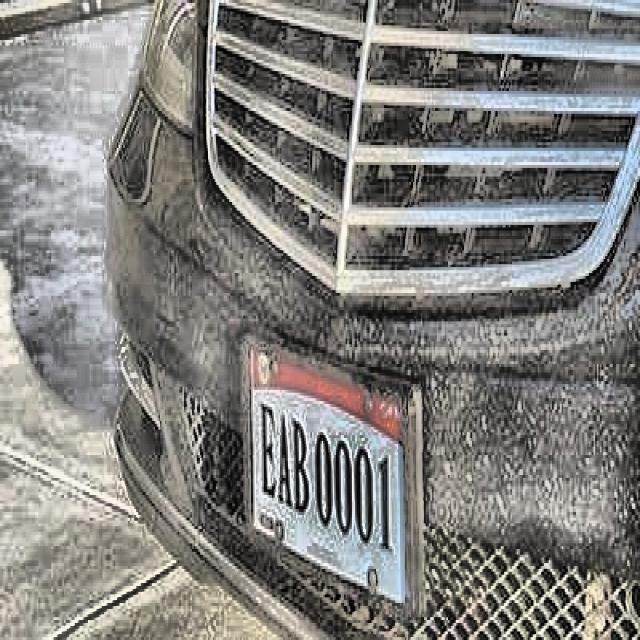license_plate: (249, 357, 397, 574)
